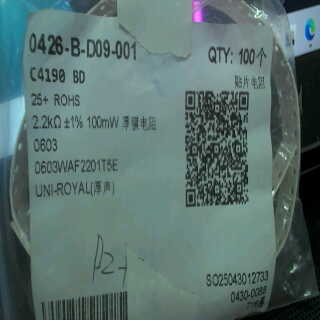2.2kR: (29, 111, 66, 133)
